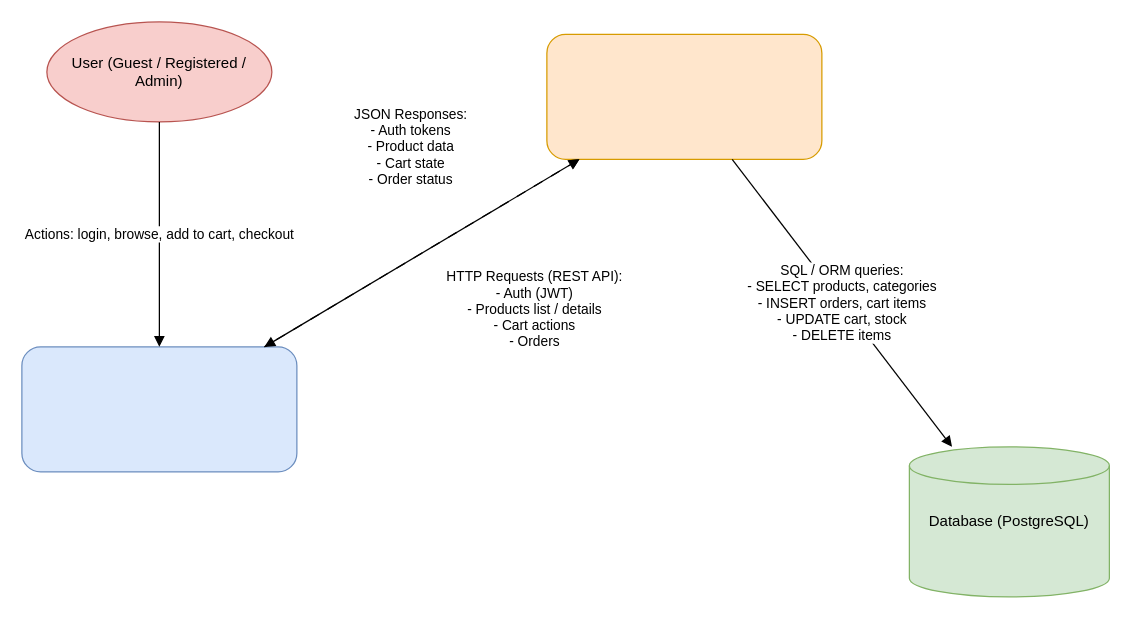
This 1131x619 diagram has some shape labels left out. Here are the shapes that lost their labels. From the top down, the centre of each, then its label:
At (x=684, y=96): "Backend (Django + DRF)".
At (x=159, y=409): "Frontend (React / HTML, CSS, JS)".
